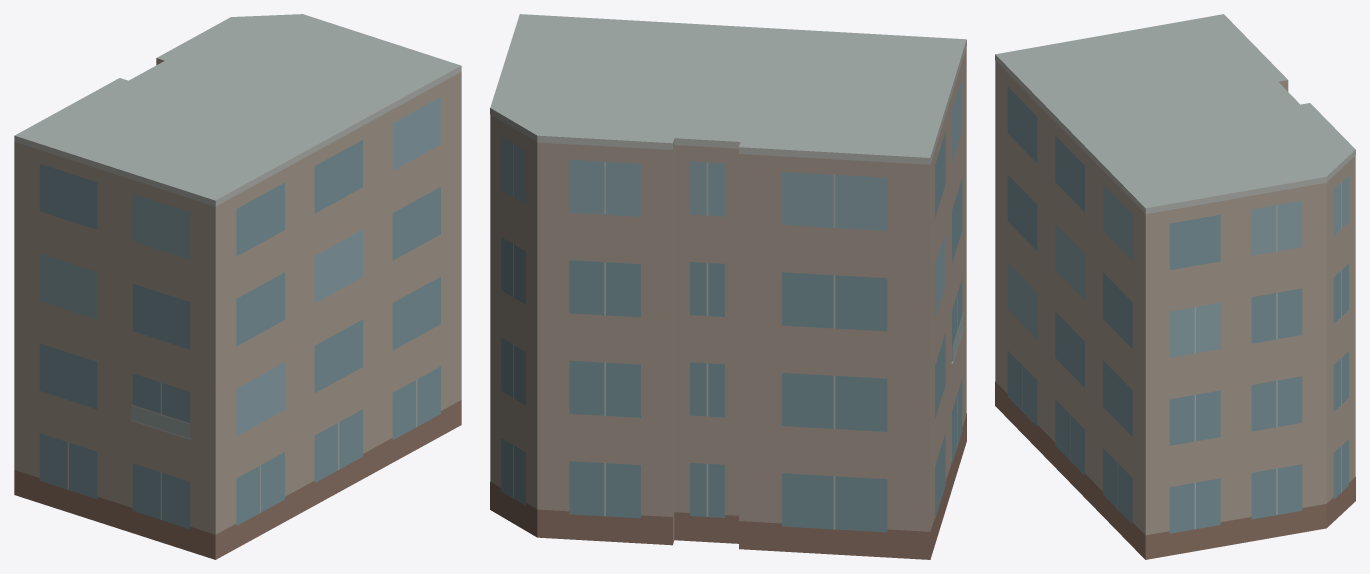
Rendered from survey-upis-32852104.glb.
3 renders of one model, left to right at view 1: azimuth 30°, elevation 25°; view 2: azimuth 150°, elevation 25°; view 3: azimuth 270°, elevation 25°, orthographic. The views are drawn at different scales.
Visible parts, largest first — view 1: survey-upis-32852104.tmp; view 2: survey-upis-32852104.tmp; view 3: survey-upis-32852104.tmp.
Boxes of the visible parts, <box> form: survey-upis-32852104.tmp: <box>14,14,461,559</box>; survey-upis-32852104.tmp: <box>490,14,966,559</box>; survey-upis-32852104.tmp: <box>995,14,1355,559</box>.
Bounding box in the file's own units: 17.2 × 14.5 × 13.49.
